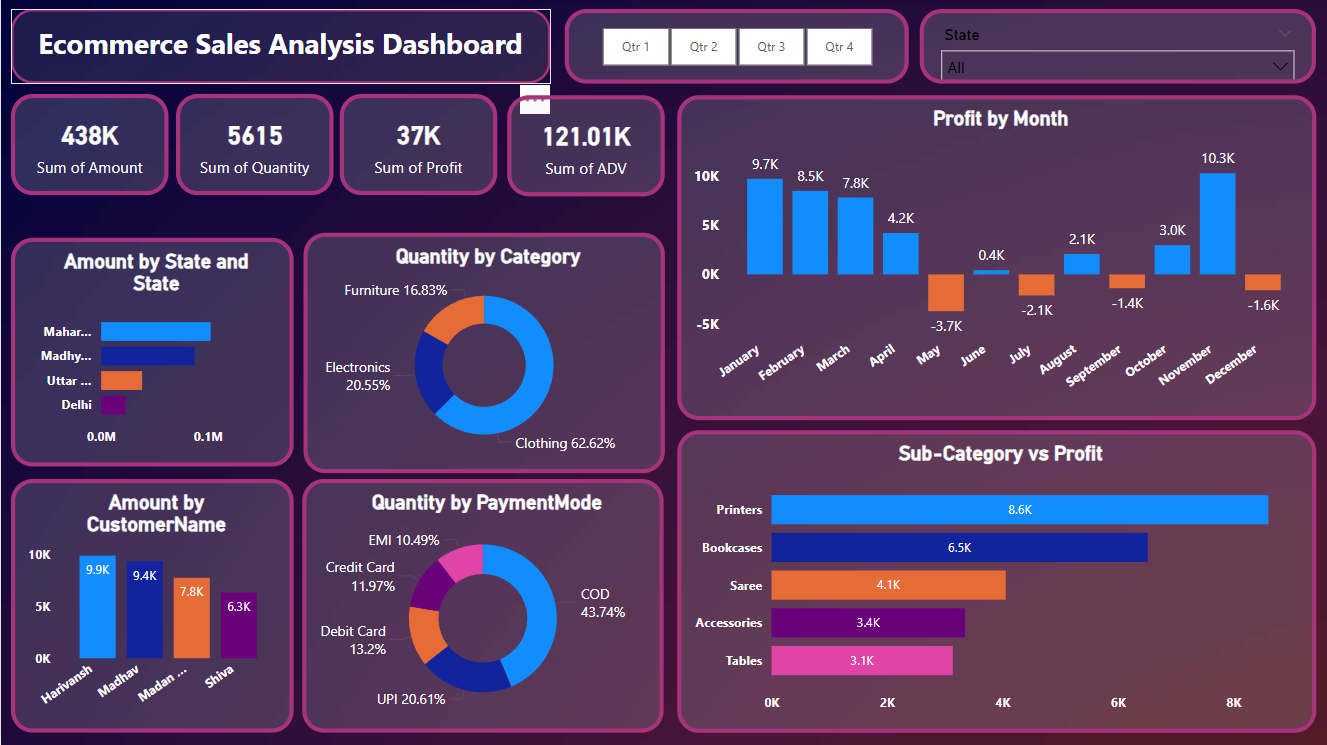

The dashboard page shown, as its layout file describes it:
{"tool":"powerbi","page":{"name":"Page 1","canvas":[1280,720],"ordinal":0},"visuals":[{"type":"textbox","box":[9.7,9.7,521.2,72.4],"z":0},{"type":"columnChart","title":" Profit by Month","fields":{"Category":["Orders.Order Date.Variation.Date Hierarchy.Month"],"Y":["Details.Profit"]},"box":[652.7,92.9,616.5,313.7],"z":1000},{"type":"barChart","title":" Sub-Category vs Profit","fields":{"Category":["Details.Sub-Category"],"Y":["Details.Profit"],"Series":["Details.Sub-Category"]},"box":[652.7,416.2,616.5,292],"z":2000},{"type":"donutChart","title":" Quantity by Category","fields":{"Category":["Details.Category"],"Y":["Details.Quantity"]},"box":[292,225.6,348.7,231.6],"z":3000},{"type":"donutChart","title":" Quantity by PaymentMode","fields":{"Category":["Details.PaymentMode"],"Y":["Details.Quantity"]},"box":[290.8,463.3,348.7,244.9],"z":4000},{"type":"card","fields":{"Values":["Details.Amount"]},"box":[9.7,91.7,152,97.7],"z":5000},{"type":"card","fields":{"Values":["Details.Quantity"]},"box":[168.9,91.7,152,97.7],"z":6000},{"type":"card","fields":{"Values":["Details.Profit"]},"box":[326.9,91.7,152,97.7],"z":7000},{"type":"card","fields":{"Values":["Details.ADV"]},"box":[488.6,92.9,152,97.7],"z":8000},{"type":"barChart","title":" Amount by State and State","fields":{"Category":["Orders.State"],"Y":["Details.Amount"],"Series":["Orders.State"]},"box":[9.7,230.4,272.7,220.8],"z":9000},{"type":"columnChart","title":"Amount by CustomerName","fields":{"Category":["Orders.CustomerName"],"Y":["Details.Amount"],"Series":["Orders.CustomerName"]},"box":[10,463,273,245],"z":10000},{"type":"slicer","fields":{"Values":["Orders.Order Date.Variation.Date Hierarchy.Quarter"]},"box":[544.1,9.7,331.8,72.4],"z":11000},{"type":"slicer","fields":{"Values":["Orders.State"]},"box":[886.7,9.7,382.4,72.4],"z":12000}]}

Visuals, with their boxes in screenshot pixels (x1, y1, x2, y2), scaled from the page's 1280x720 canvas onto the 1327x745 screenshot:
textbox: (left=10, top=10, right=550, bottom=85)
" Profit by Month" columnChart: (left=677, top=96, right=1316, bottom=421)
" Sub-Category vs Profit" barChart: (left=677, top=431, right=1316, bottom=733)
" Quantity by Category" donutChart: (left=303, top=233, right=664, bottom=473)
" Quantity by PaymentMode" donutChart: (left=301, top=479, right=663, bottom=733)
card - Details.Amount: (left=10, top=95, right=168, bottom=196)
card - Details.Quantity: (left=175, top=95, right=333, bottom=196)
card - Details.Profit: (left=339, top=95, right=496, bottom=196)
card - Details.ADV: (left=507, top=96, right=664, bottom=197)
" Amount by State and State" barChart: (left=10, top=238, right=293, bottom=467)
"Amount by CustomerName" columnChart: (left=10, top=479, right=293, bottom=733)
slicer - Orders.Order Date.Variation.Date Hierarchy.Quarter: (left=564, top=10, right=908, bottom=85)
slicer - Orders.State: (left=919, top=10, right=1316, bottom=85)
